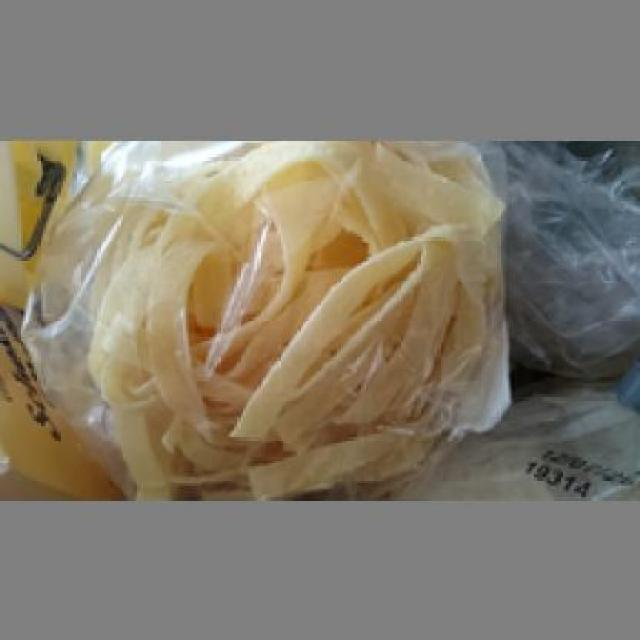Pasta: (51, 140, 507, 494)
